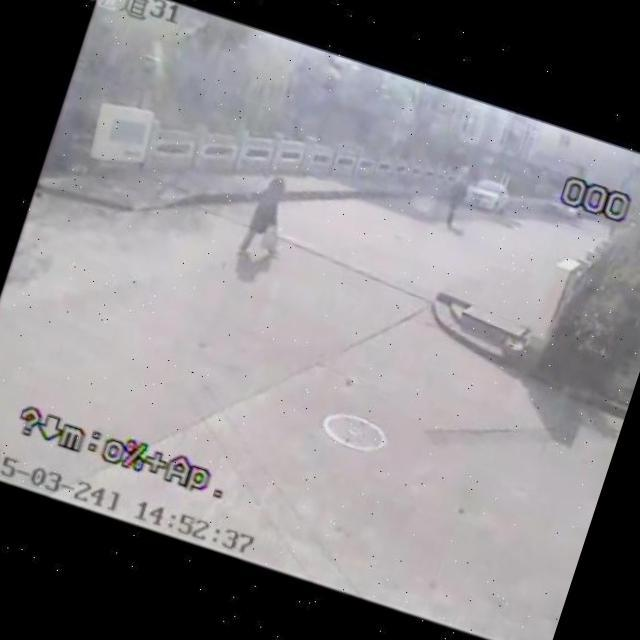person: (233, 170, 307, 270)
